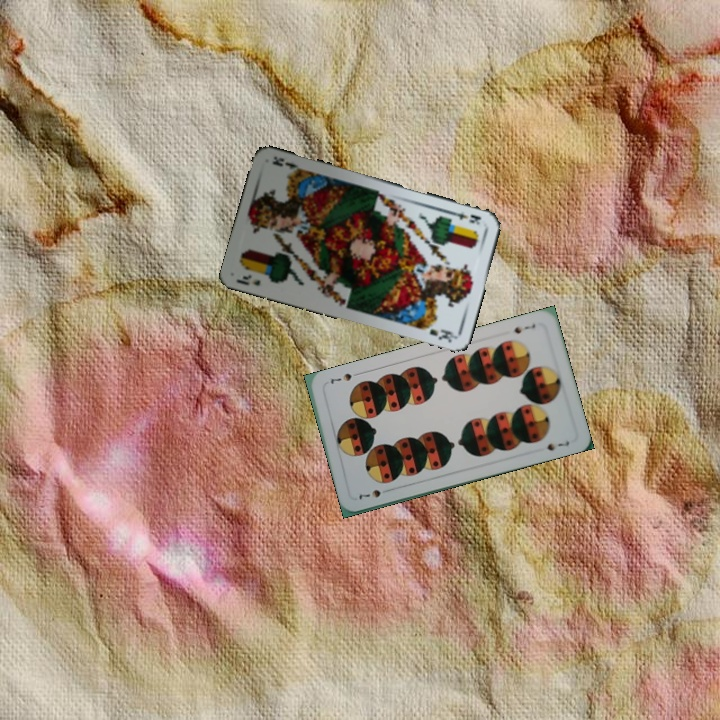EK: (448, 207, 484, 227), (233, 270, 263, 288)
S7: (355, 485, 393, 502), (510, 319, 538, 336)
